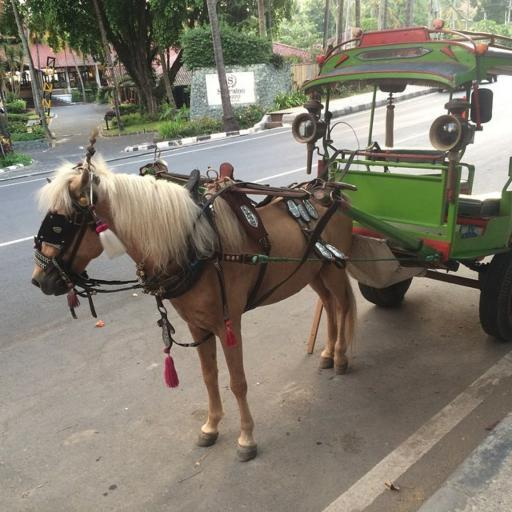Horse: (30, 154, 358, 464)
